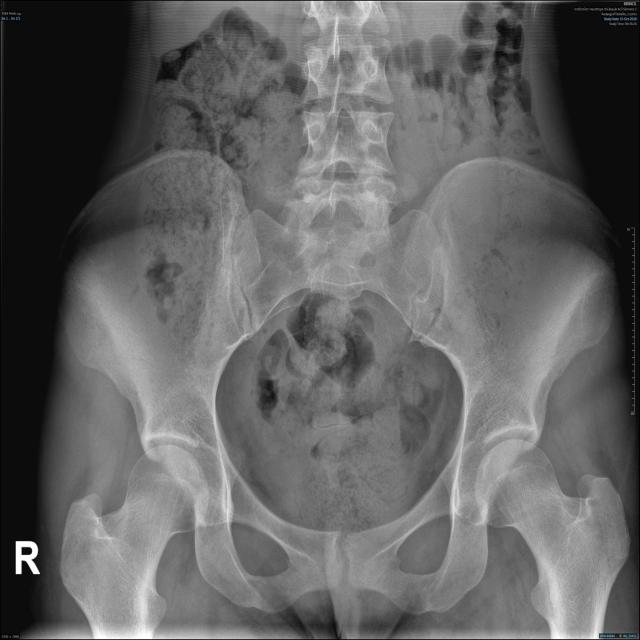normal-left: (475, 438, 630, 640)
normal-right: (59, 445, 209, 639)
